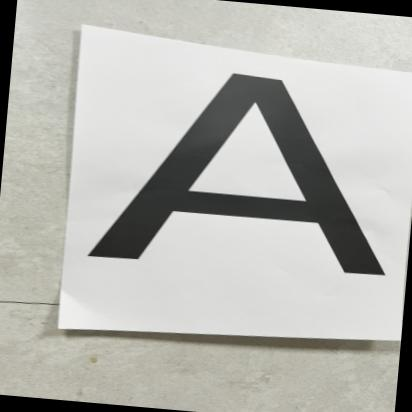seat: (85, 45, 410, 287)
